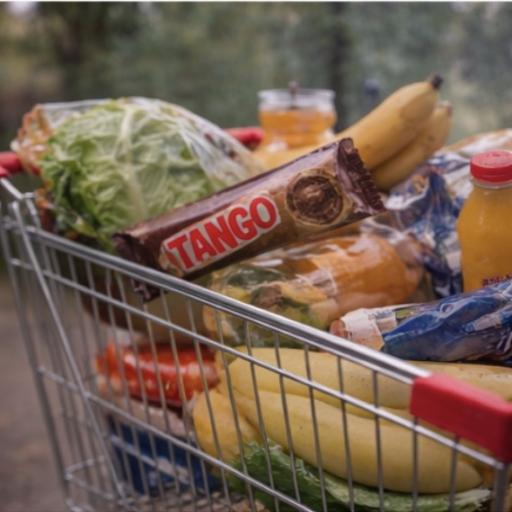tango: (102, 118, 422, 344)
